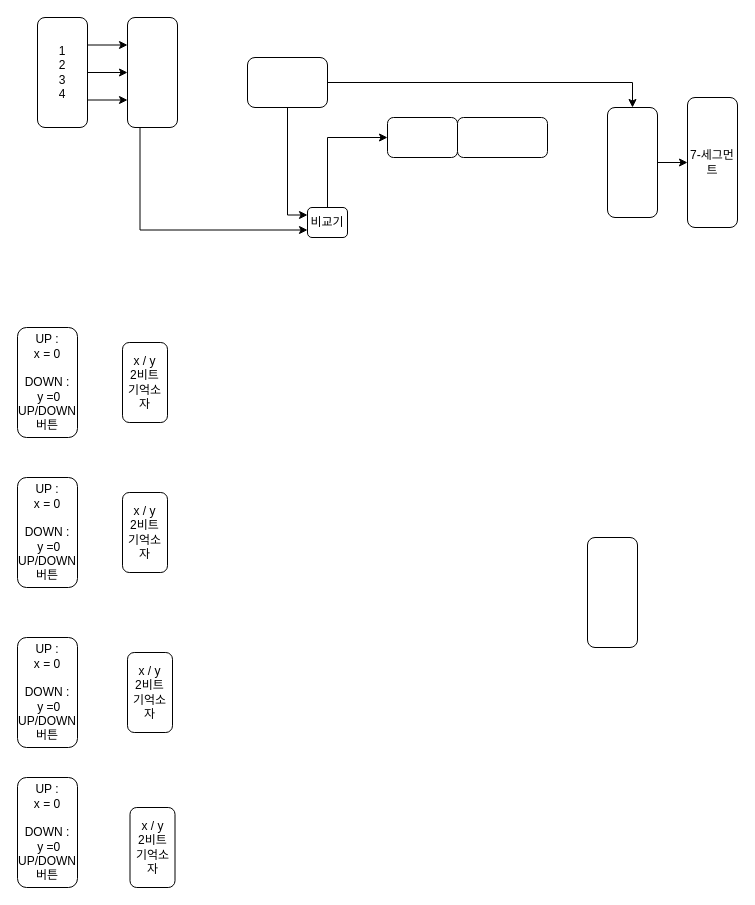
Image size: 755x905. Some labels were removed from this diagram. The shapes that lost their labels are listed below. From the top down, each one's box as (x1, y1, x2, y2) in pixels, then its label:
(126, 16, 178, 128): DECODE
(246, 56, 328, 108): 현재 층수 메모리
(386, 116, 458, 158): UP : 1 DOWN : 0
(456, 116, 548, 158): 목적지 2비트 기억소자
(606, 106, 658, 218): ENCODE
